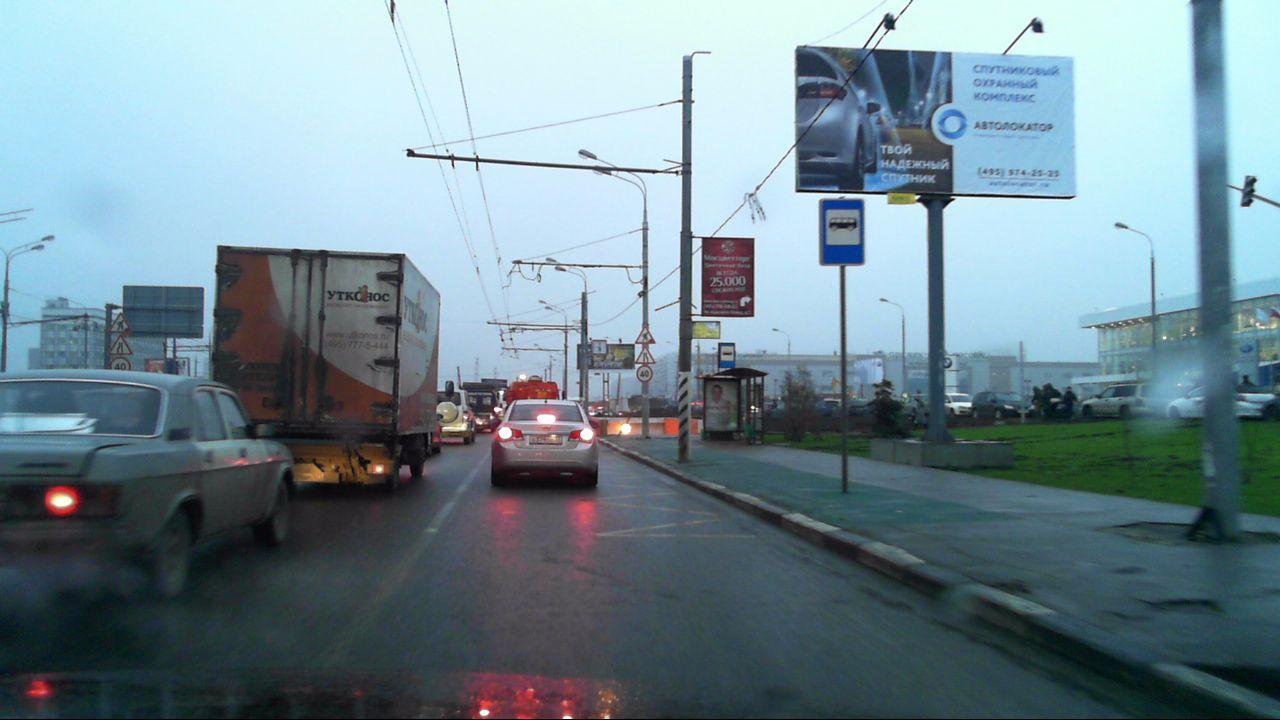1_20_2: (635, 347, 655, 365)
1_20_3: (110, 335, 134, 355)
1_25: (110, 313, 130, 334), (635, 326, 655, 345)
3_24: (110, 357, 131, 371), (637, 365, 653, 383)
5_16: (816, 198, 869, 265), (718, 341, 736, 368)
